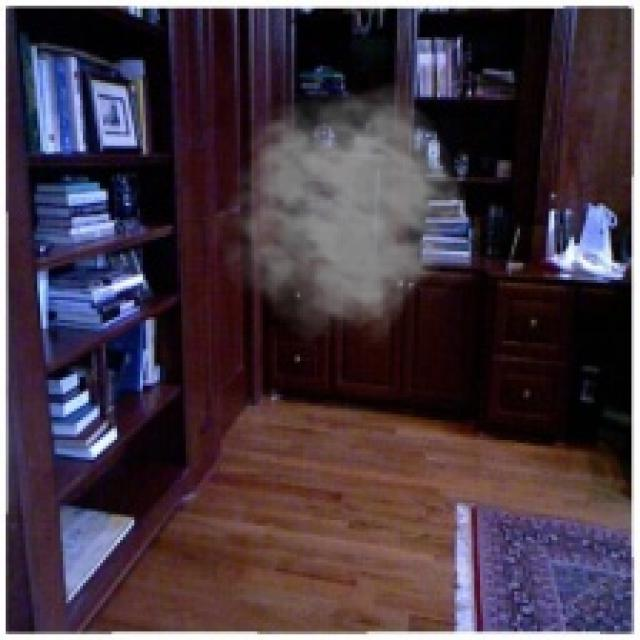smoke: (208, 83, 468, 348)
